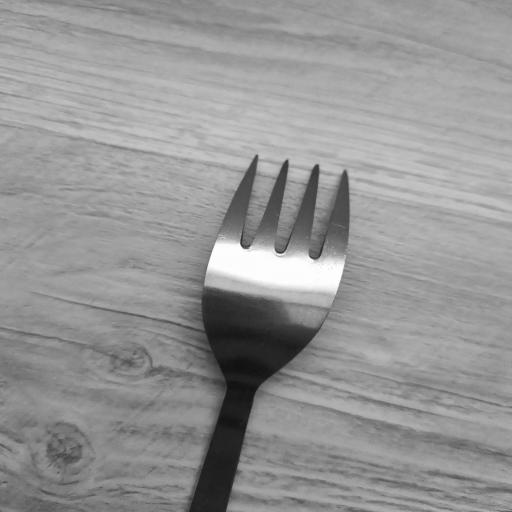fork: (182, 155, 354, 512)
